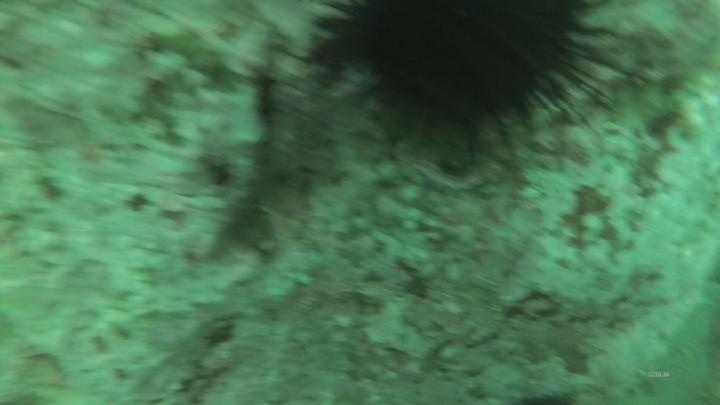echinus: (313, 0, 613, 145)
